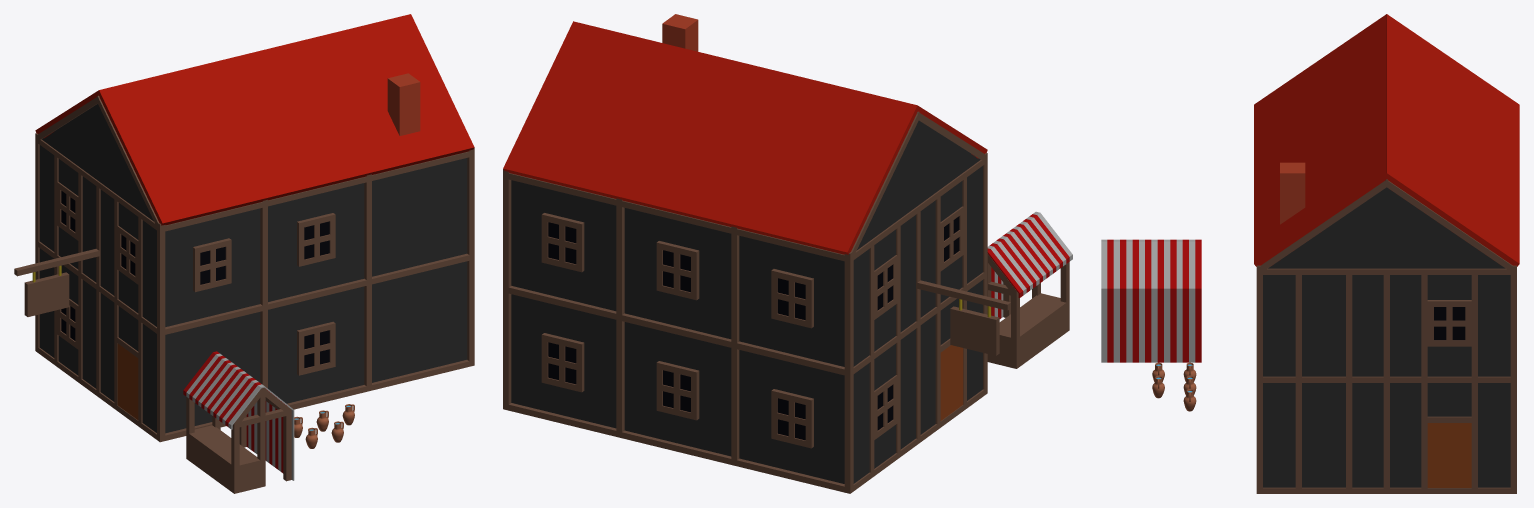
Rendered from timberframedpotter.obj.
3 views of the same model, side by side, from view 1: azimuth 30°, elevation 25°; view 2: azimuth 150°, elevation 25°; view 3: azimuth 270°, elevation 25° (orthographic). The views are drawn at different scales.
Parts seen in each view (by area): view 1: Cube.005, Cube.007_Cube.011, Cube.011_Cube.015, Cube.018_Cube.016, Cube.026_Cube.019, Cube.006_Cube.010, Cube.001_Cube.058, Cube.056_Cube.081, Cube.013_Cube.080, Cube.055_Cube.059, Cube.147_Cube.153, Cube.010_Cube.053 (+24 smaller); view 2: Cube.005, Cube.007_Cube.011, Cube.022_Cube.025, Cube.023_Cube.026, Cube.021_Cube.024, Cube.028, Cube.019_Cube.022, Cube.017_Cube.021, Cube.014_Cube.018, Cube.008, Cube.015_Cube.020, Cube.020_Cube.023 (+23 smaller); view 3: Cube.005, Cube.007_Cube.011, Cube.147_Cube.153, Cube.003, Cube.033, Cube.032, Cube.016_Cube.013, Cube.031, Cube.012_Cube.017, Cube.027, Cube.034, Cube.047_Cube.049 (+6 smaller).
Part boxes in pixels (box(x1,y1,x2,y2)): Cube.005: box(39, 104, 467, 433); Cube.007_Cube.011: box(35, 14, 474, 225); Cube.011_Cube.015: box(161, 253, 473, 334); Cube.018_Cube.016: box(165, 151, 473, 231); Cube.026_Cube.019: box(157, 223, 165, 442); Cube.006_Cube.010: box(387, 73, 420, 135); Cube.001_Cube.058: box(297, 321, 335, 375); Cube.056_Cube.081: box(193, 238, 231, 292); Cube.013_Cube.080: box(297, 213, 335, 266); Cube.055_Cube.059: box(161, 360, 473, 441); Cube.147_Cube.153: box(246, 401, 294, 480); Cube.010_Cube.053: box(364, 174, 371, 391); Cube.005: box(511, 120, 982, 483); Cube.007_Cube.011: box(503, 21, 987, 254); Cube.022_Cube.025: box(504, 286, 848, 375); Cube.023_Cube.026: box(505, 403, 848, 493); Cube.021_Cube.024: box(505, 173, 848, 261); Cube.028: box(844, 252, 853, 493); Cube.019_Cube.022: box(656, 361, 699, 420); Cube.017_Cube.021: box(541, 333, 584, 392); Cube.014_Cube.018: box(656, 241, 699, 300); Cube.008: box(541, 213, 584, 272); Cube.015_Cube.020: box(771, 269, 813, 328); Cube.020_Cube.023: box(771, 389, 813, 448); Cube.005: box(1263, 187, 1510, 487); Cube.007_Cube.011: box(1254, 14, 1519, 266); Cube.147_Cube.153: box(1101, 288, 1201, 362); Cube.003: box(1427, 423, 1471, 487); Cube.033: box(1427, 300, 1471, 346); Cube.032: box(1261, 268, 1512, 274); Cube.016_Cube.013: box(1261, 376, 1511, 382); Cube.031: box(1261, 487, 1512, 493); Cube.012_Cube.017: box(1256, 265, 1262, 493); Cube.027: box(1510, 265, 1516, 493); Cube.034: box(1383, 268, 1389, 490); Cube.047_Cube.049: box(1295, 268, 1301, 490).
Size of the model in its own units: 15.3 by 11.25 by 13.34.
